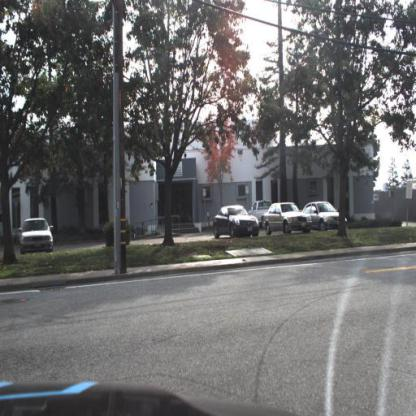car: (262, 198, 313, 235), (213, 205, 259, 239), (21, 217, 59, 257), (305, 200, 349, 229), (251, 196, 269, 220)
